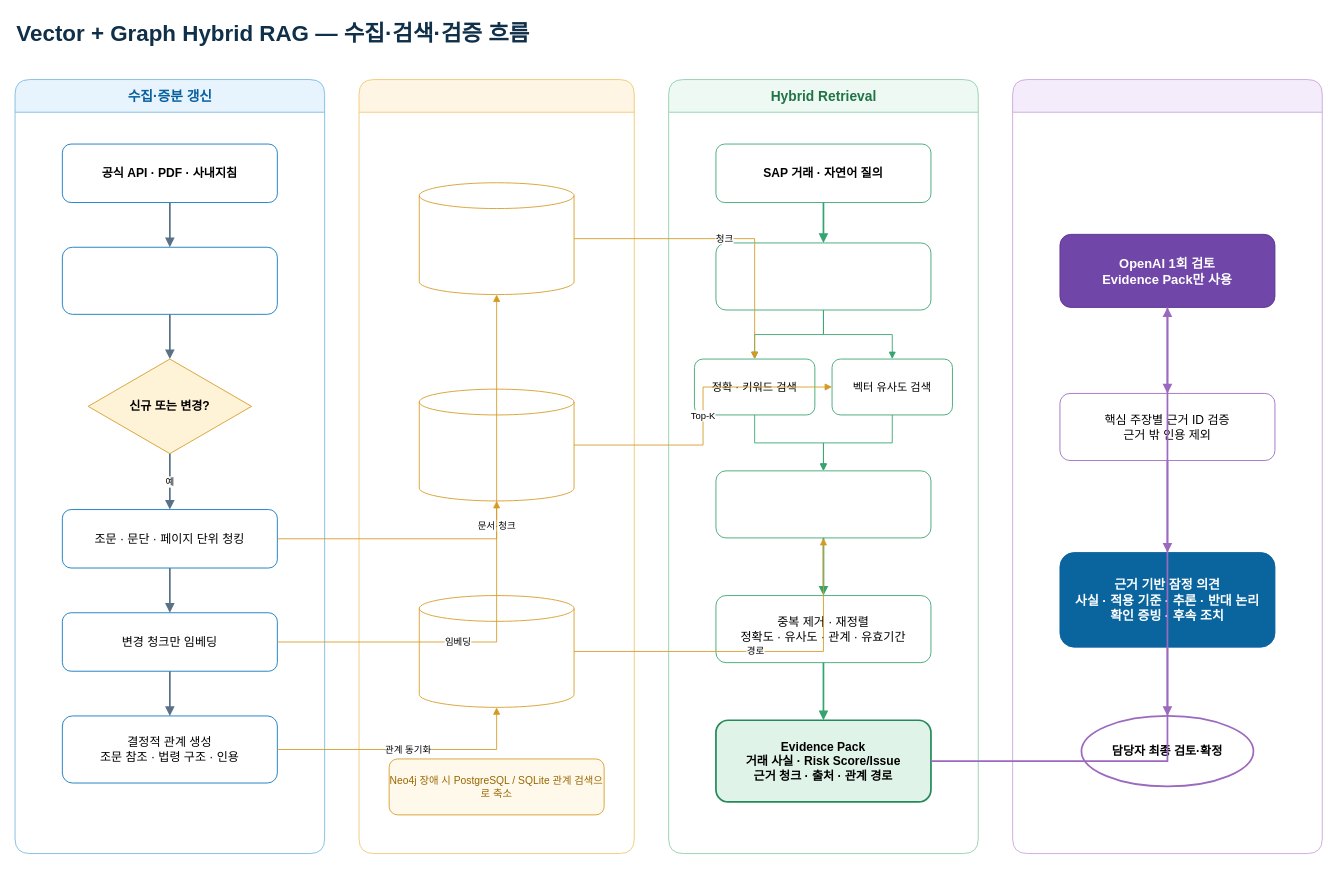
Image size: 1337x869. Some labels were removed from this diagram. Each missing label, with the box of its shape:
AI 검토·검증: (1012, 79, 1322, 854)
Neo4j Document · Chunk · RiskIssue 명시적 관계 경로: (418, 595, 574, 707)
Neo4j 관계 확장 기본 1-hop · 검증 후 최대 2-hop: (715, 470, 931, 538)
pgvector knowledge_embeddings HNSW 유사도 검색: (418, 388, 574, 501)
PostgreSQL documents · chunks · relations RiskIssue · retrieval_logs: (418, 182, 574, 295)
수집 · 정제 · 버전 비교 식별자 · 시행일 · content_hash: (61, 246, 277, 314)
정합성 저장소: (358, 79, 634, 854)
트랙 · Risk Issue · 메타데이터 식별 회계 / 세무 / 복합: (715, 242, 931, 310)
